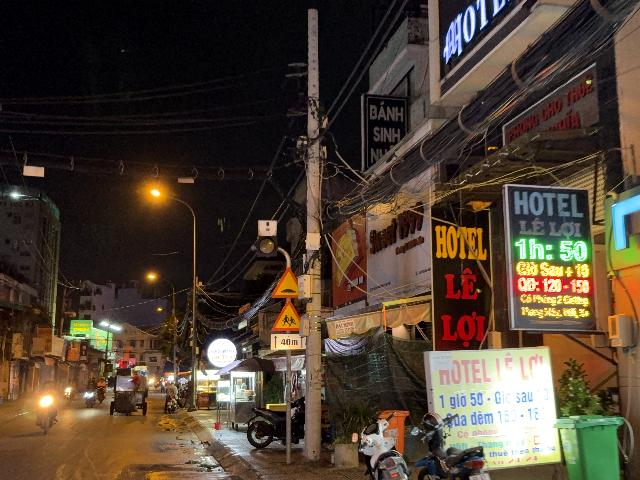duong-co-go-giam-toc: (270, 267, 298, 298)
tre-em-qua-duong: (272, 299, 301, 331)
